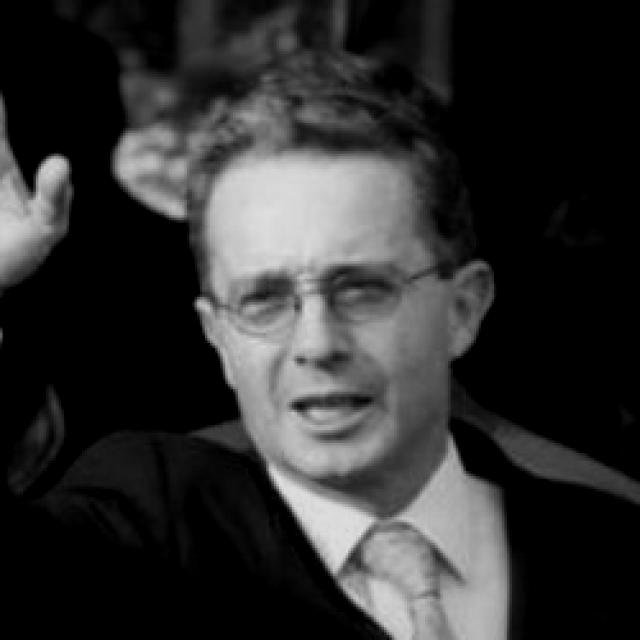real: (205, 151, 450, 478), (215, 269, 407, 344)
